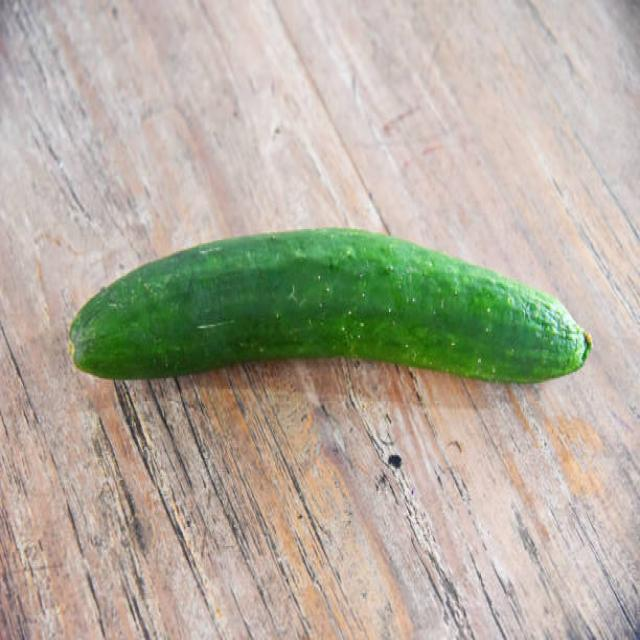cucumber: (69, 225, 587, 384)
